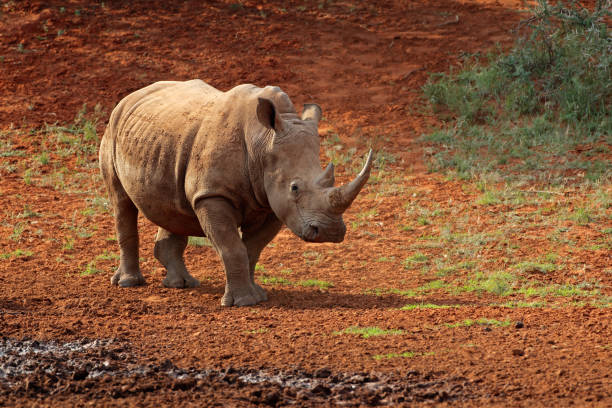rhino: (232, 91, 392, 256)
